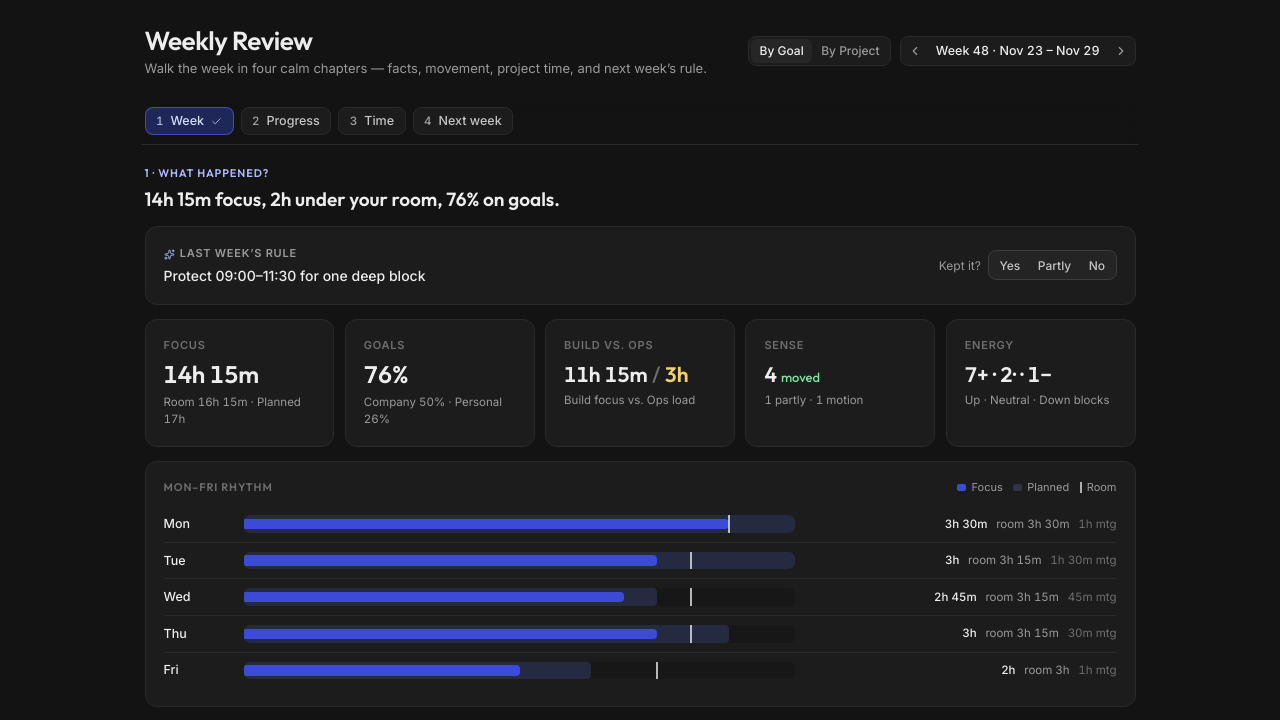
it: 4-chapter ReviewView & Settings review.completed toggle › ReviewView renders 4 chapters, Chapter Bar, opening sentences, Kept it toggle, Mon-Fri day strip, and expandable Daily notes
Expected: the button "1 Week" is shown, [144, 107, 234, 135]
Expected: the button "2 Progress" is shown, [240, 107, 331, 135]
Click the button "Partly": (1054, 265) [1029, 253, 1080, 278]
(page scrolled)
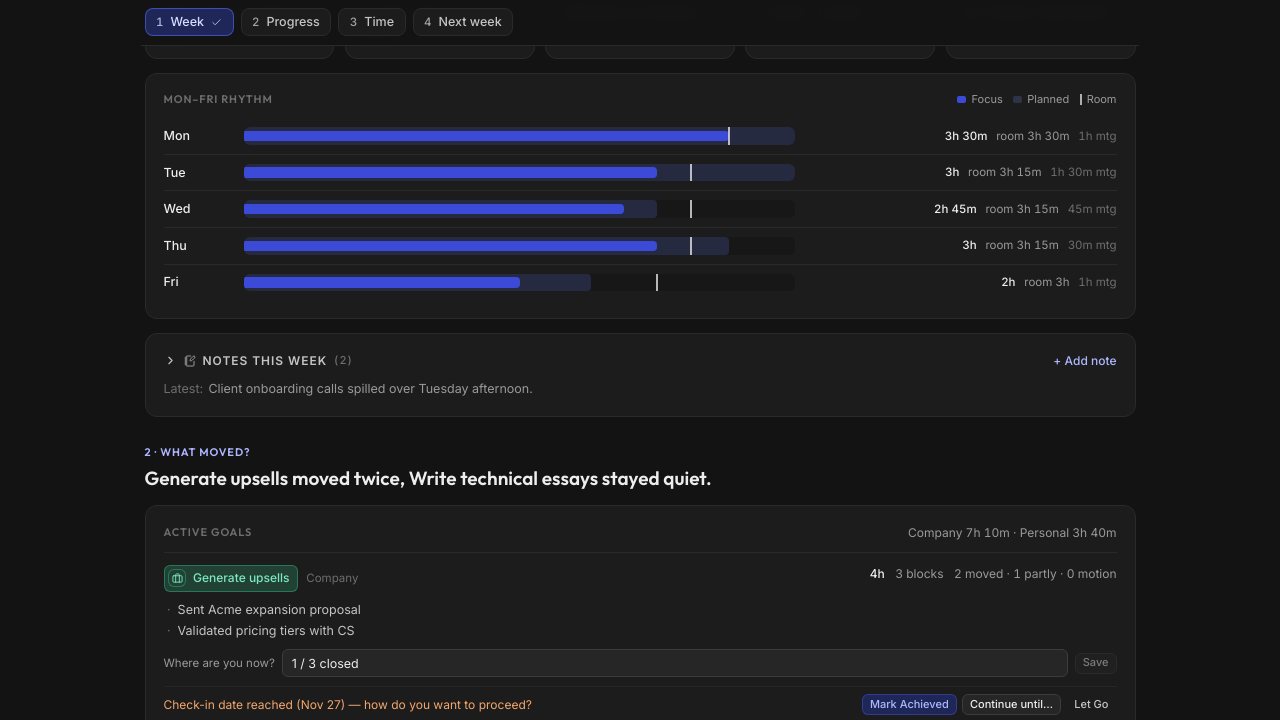
Expected: the text "Company 50% · Personal 26%" is shown, [364, 6, 516, 40]
Expected: the text "Mon" is shown, [164, 128, 190, 143]
Click the button "Notes this week (2)": (258, 361) [164, 352, 353, 370]
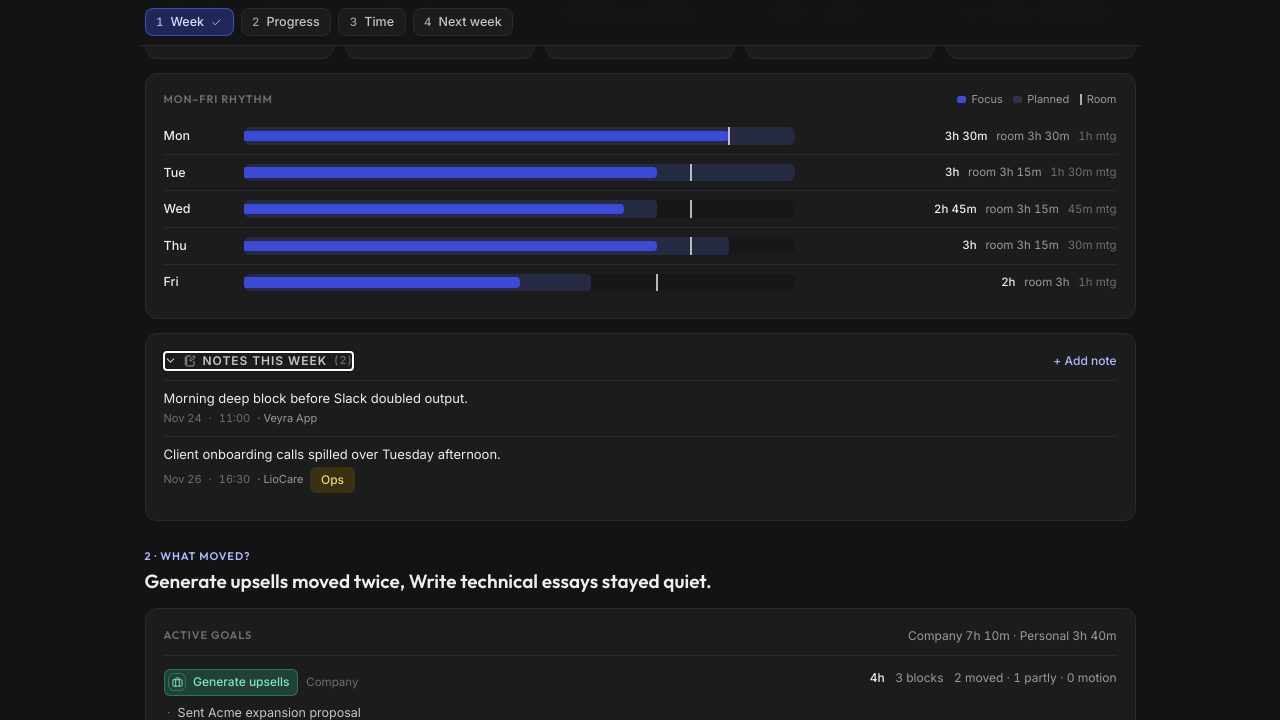
Expected: the text "Client onboarding calls spilled over Tuesday afternoon." is shown, [164, 446, 501, 462]
Expected: the button "Notes this week (2)" is expanded, [164, 352, 353, 370]
Expected: the text "Morning deep block before Slack doubled output." is shown, [164, 390, 468, 406]
